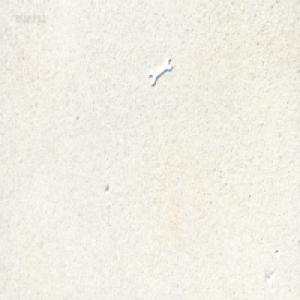Wrench: (148, 56, 172, 86)
